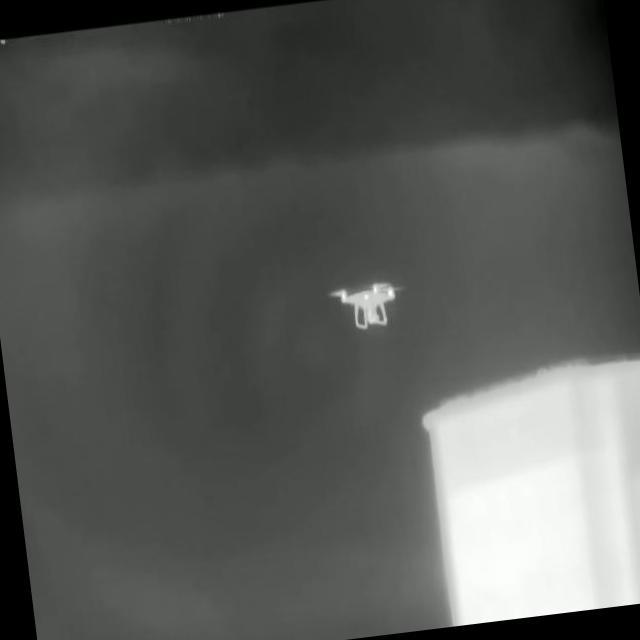DRONE: (328, 279, 411, 332)
